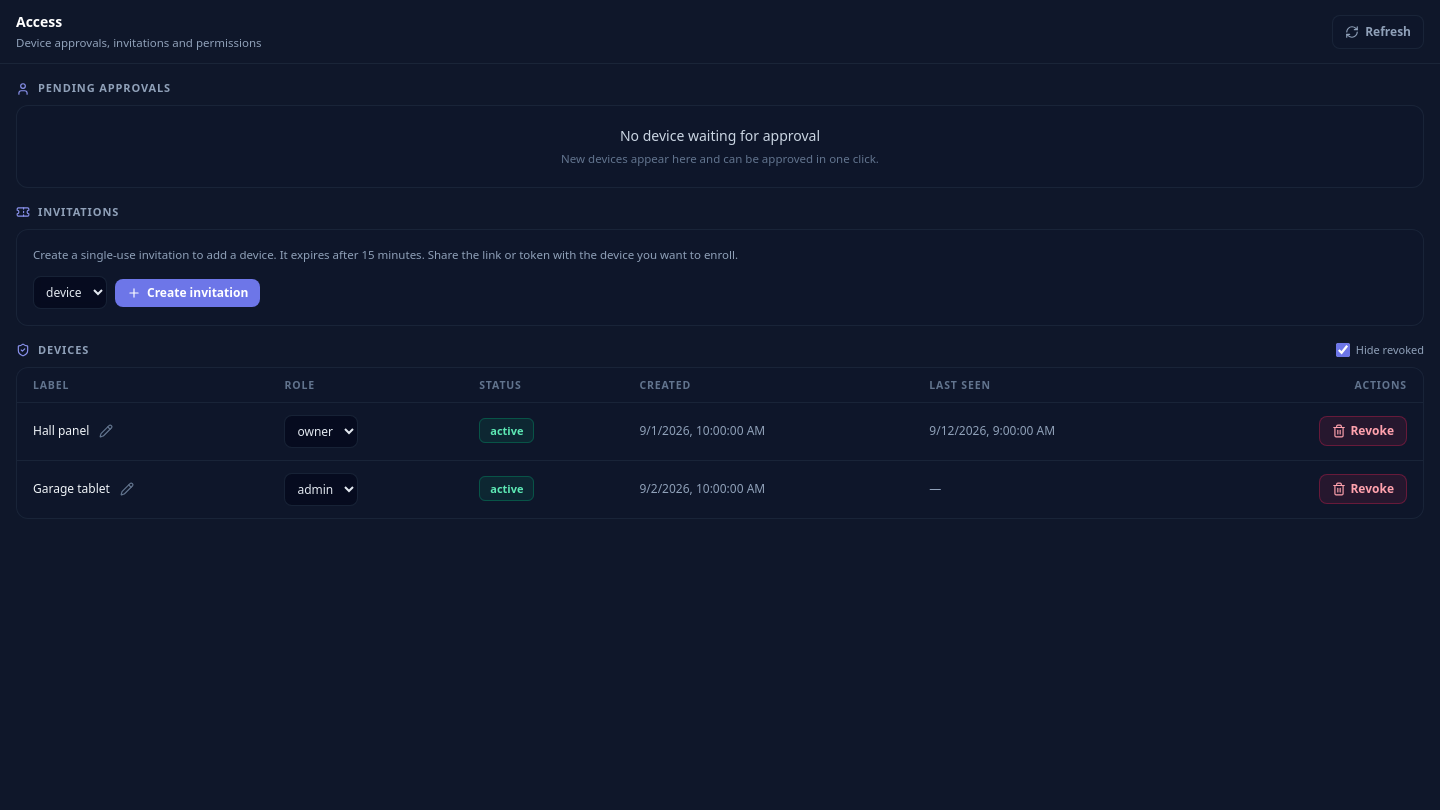
Test case: AuthPanel › surfaces the error and keeps the old label when renaming fails
Click the button named "rename garage tablet" at (127, 489), box [116, 478, 138, 500]
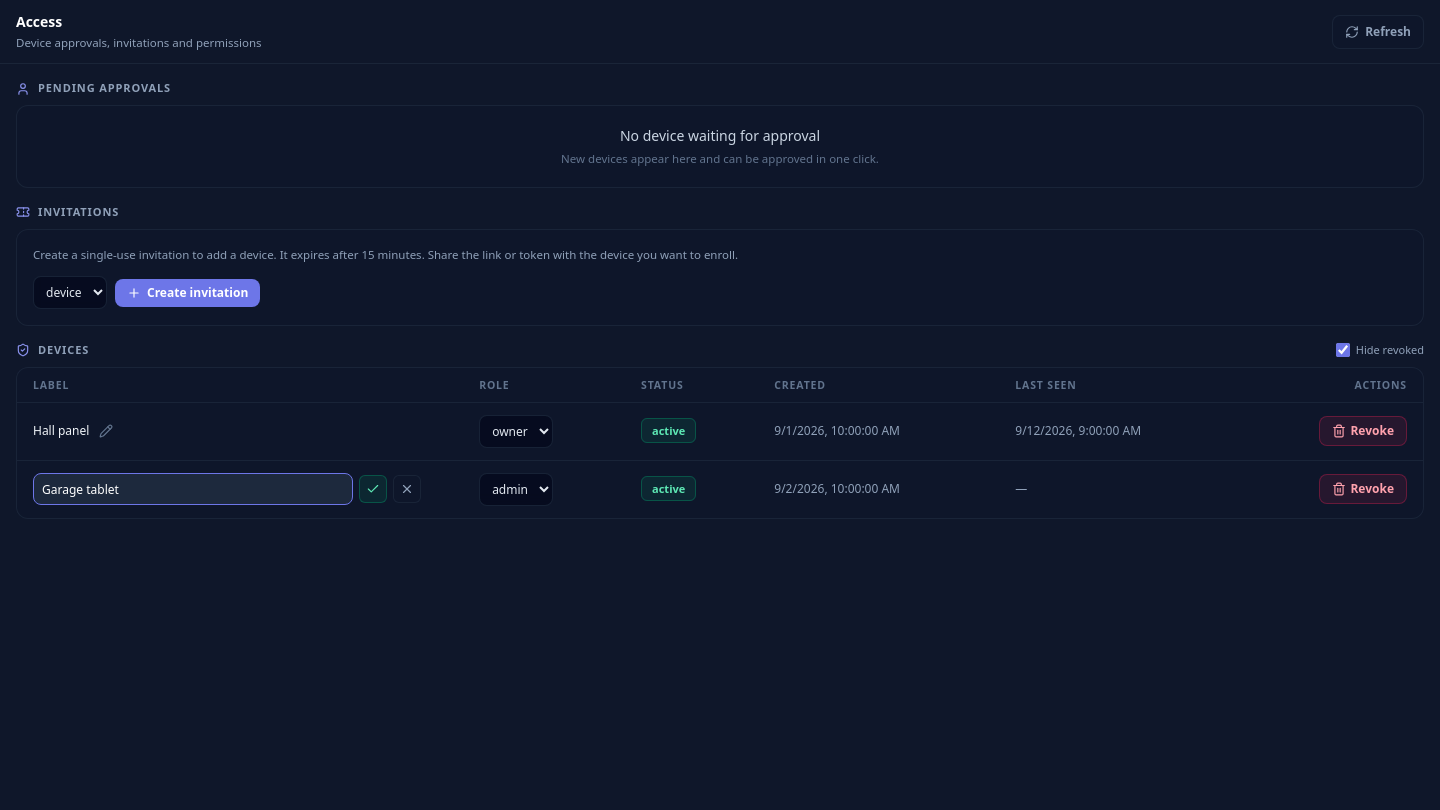
Replace the text in the field named "label for garage tablet" with "Bad" at (193, 489), box [33, 473, 353, 505]
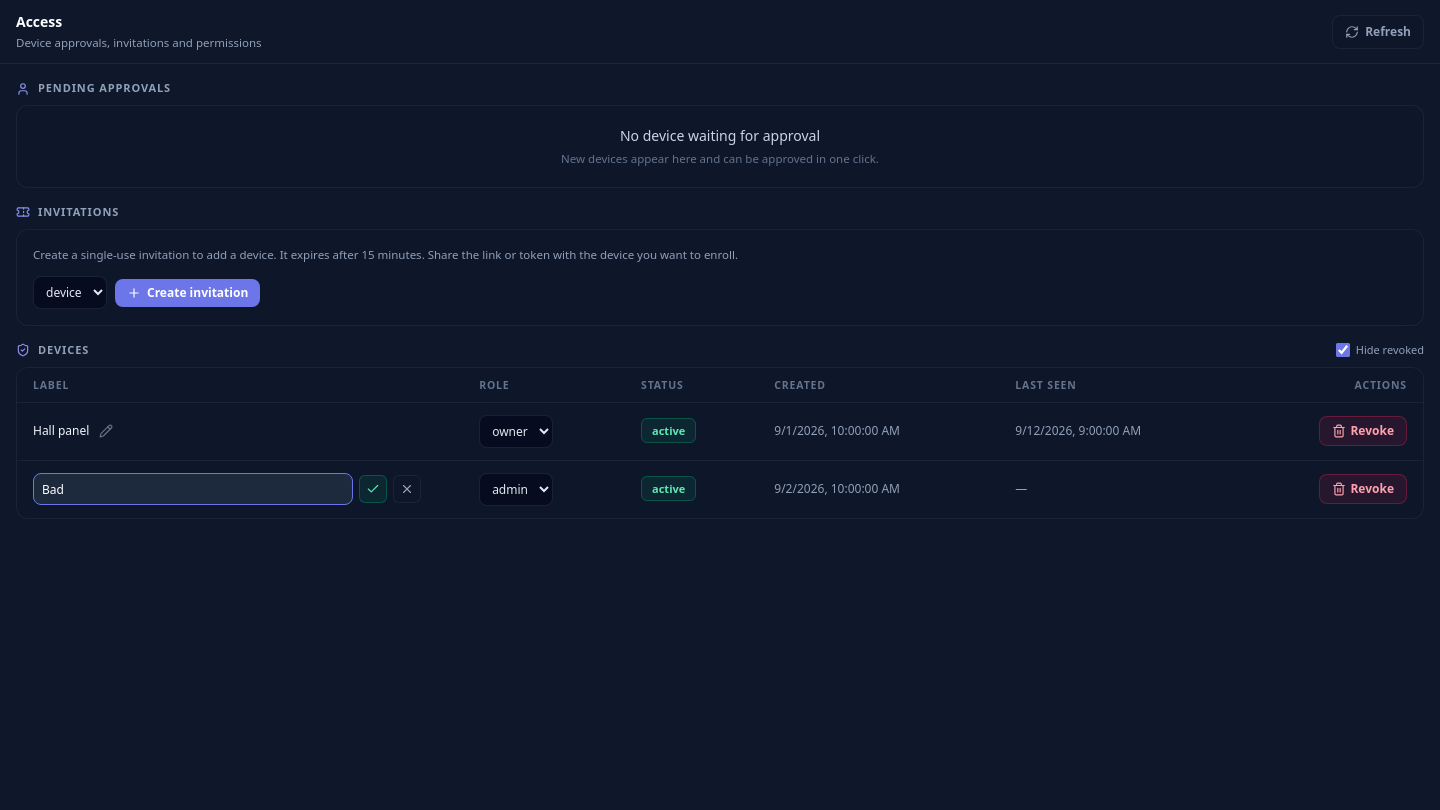
Press Enter in the field named "label for garage tablet", box [33, 473, 353, 505]
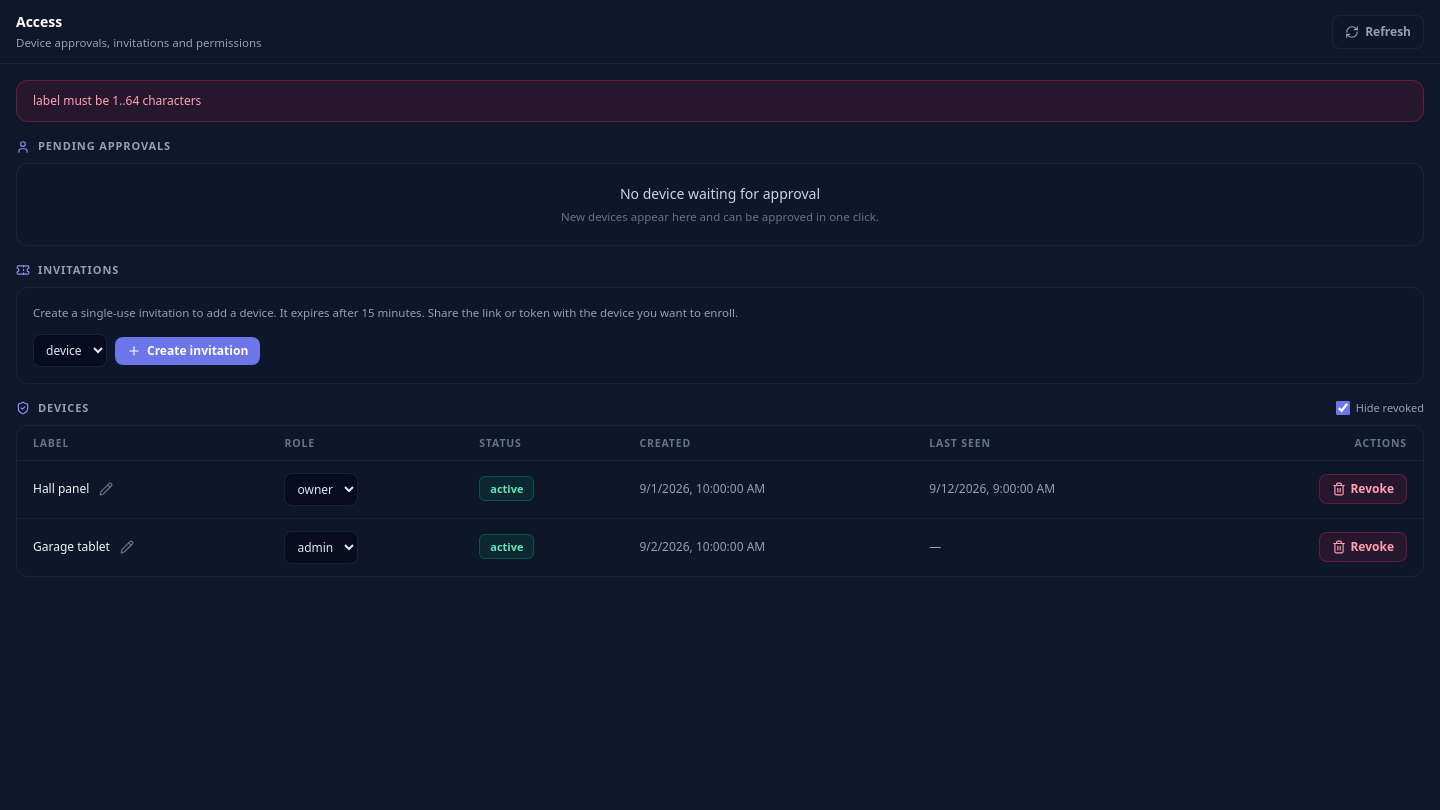
expect the text "label must be 1..64 characters" is shown: met, box [16, 80, 1424, 122]
expect the text "Garage tablet" is shown: met, box [33, 539, 110, 555]
